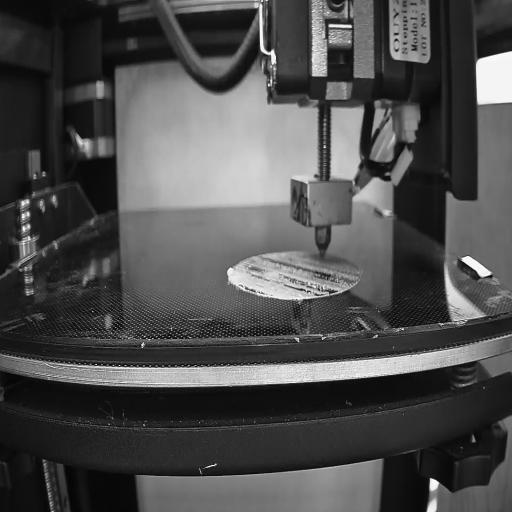under_extrusion: (276, 262, 358, 296), (239, 261, 273, 296)
